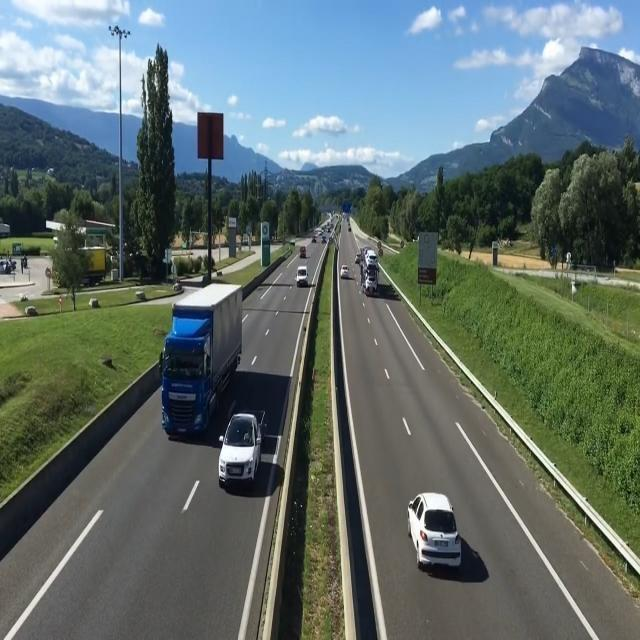Car: (407, 492, 465, 572), (217, 412, 264, 484), (296, 265, 308, 287), (364, 250, 378, 268), (340, 264, 349, 278), (355, 255, 361, 264)
Truck: (160, 281, 244, 433)
